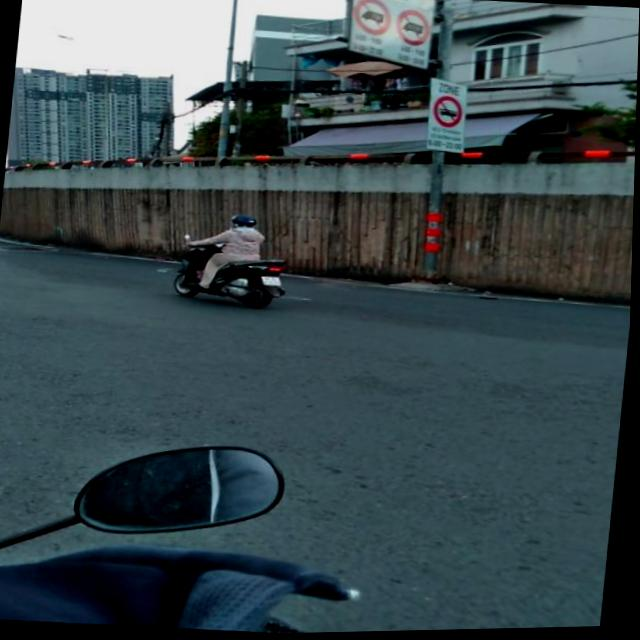Cam xe tai tren 2_5: (350, 0, 393, 38), (394, 10, 432, 50)
